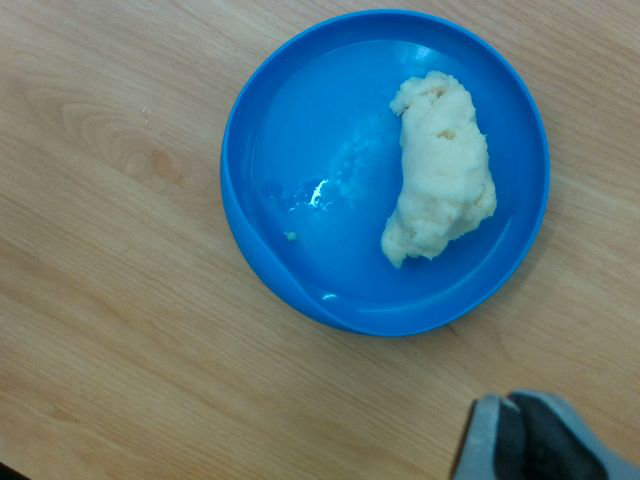mashed_potato: (386, 73, 496, 271)
